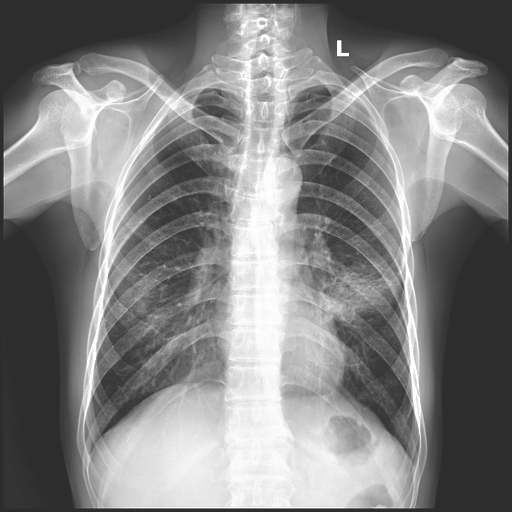Aortic enlargement: (326, 258, 402, 325)
Calcification: (294, 83, 366, 107)
ILD: (114, 261, 208, 356), (322, 265, 400, 322)
Pleural thickening: (322, 265, 400, 322), (122, 262, 160, 344)
